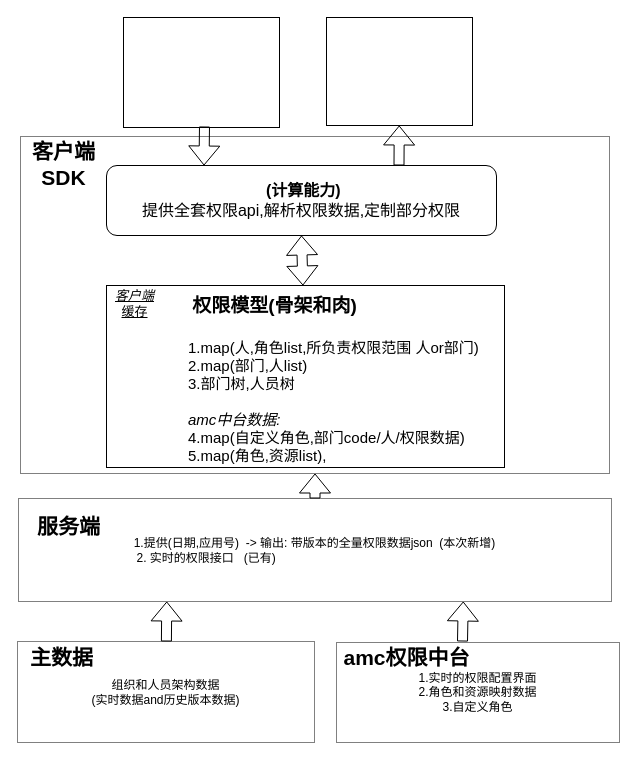
This 637x760 diagram has some shape labels left out. The shapes that lost their labels are listed below. From the top down, each one's centre as x and y in pixels, then its label:
(x=201, y=72): 输入(INPUT) 1.根据接口局部更新 (自定义权限) 2.传入符合格式的的json (为自定义导入..)
(x=399, y=71): 输出(OUTPUT) 全量json格式导出接口 (便于持久化锁数据)
